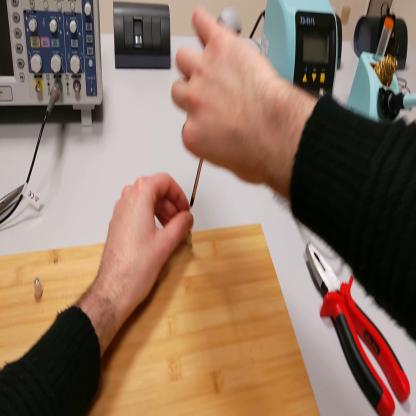hand: (172, 11, 281, 182), (100, 173, 193, 313)
oscilloscope: (1, 1, 104, 128)
oscilloscope probe tip: (2, 181, 26, 214)
pliers: (306, 245, 411, 416)
screwdriver-: (190, 13, 244, 215)
socket: (356, 14, 410, 71), (337, 14, 344, 71)
welder base: (348, 17, 404, 124)
welder probe tip: (391, 93, 416, 115)
welder station: (263, 3, 342, 101)
working area: (2, 229, 320, 416)
